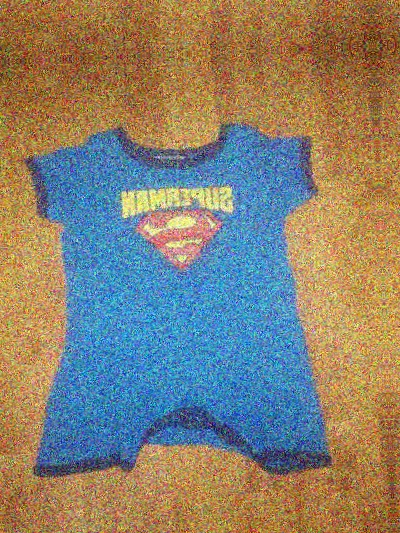Body: (0, 88, 359, 495), (0, 0, 338, 20), (388, 0, 400, 2)
